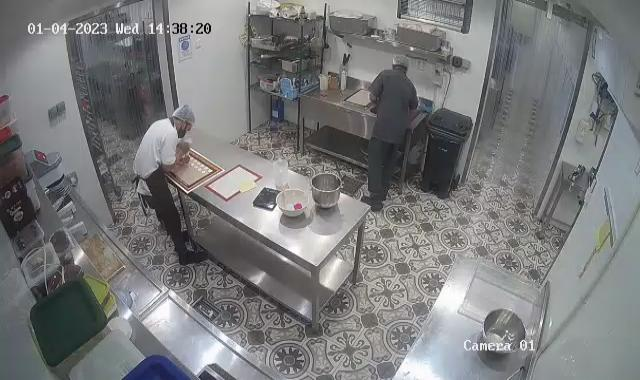hairnet: (170, 102, 195, 130), (391, 53, 411, 72)
